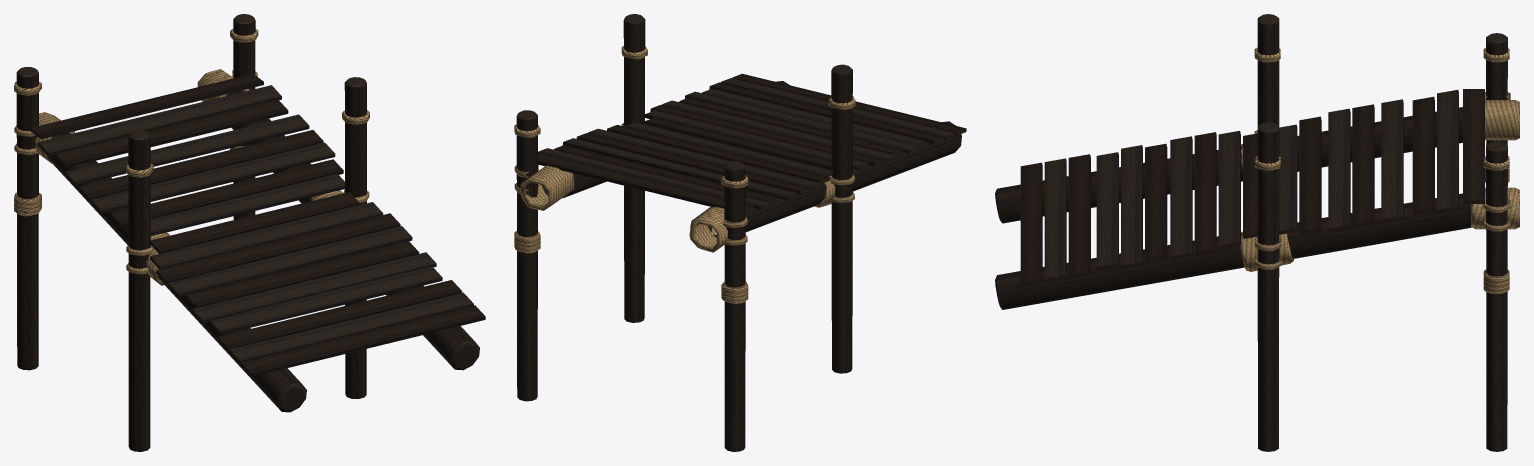
The model's file is bridgeStart.fbx.
3 views of the same model, side by side, from view 1: azimuth 30°, elevation 25°; view 2: azimuth 150°, elevation 25°; view 3: azimuth 270°, elevation 25° (orthographic). The views are drawn at different scales.
Visible parts, largest first — view 1: bridgeStart, ropeStart; view 2: bridgeStart, ropeStart; view 3: bridgeStart, ropeStart.
Boxes of the visible parts, <box> form: bridgeStart: <box>16,14,485,451</box>; ropeStart: <box>14,29,369,285</box>; bridgeStart: <box>516,14,966,451</box>; ropeStart: <box>514,46,855,304</box>; bridgeStart: <box>995,14,1507,451</box>; ropeStart: <box>1239,47,1519,293</box>.
Bounding box in the file's own units: 4.43 × 5.54 × 8.21.
